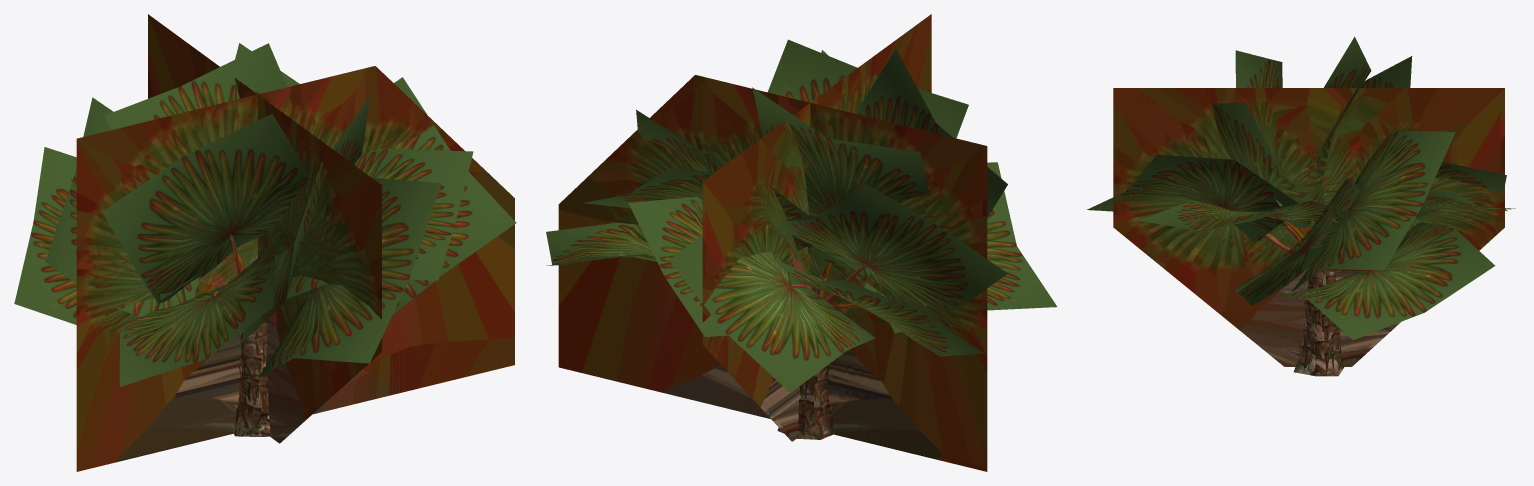
The model's file is Latania2.fbx.
The picture shows the model from 3 angles, left to right: view 1: azimuth 30°, elevation 25°; view 2: azimuth 150°, elevation 25°; view 3: azimuth 270°, elevation 25°; orthographic projection. The views are drawn at different scales.
Parts seen in each view (by area): view 1: Billboard, LOD0; view 2: Billboard, LOD0; view 3: LOD0, Billboard.
Boxes of the visible parts, x1=… form: Billboard: x1=76, y1=14, x2=514, y2=471; LOD0: x1=14, y1=43, x2=516, y2=436; Billboard: x1=558, y1=14, x2=987, y2=471; LOD0: x1=546, y1=39, x2=1057, y2=439; LOD0: x1=1087, y1=36, x2=1515, y2=376; Billboard: x1=1113, y1=88, x2=1504, y2=366.
Size of what is drawn, in the model's own units: 273 by 201 by 261.
